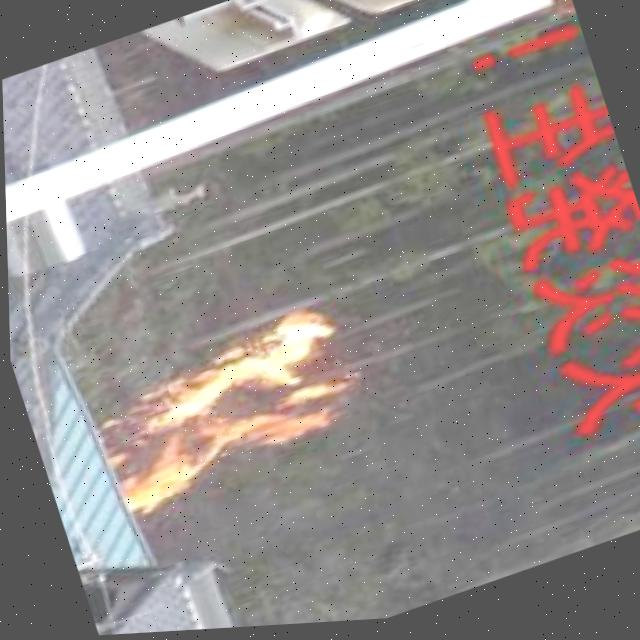Fire: (71, 286, 366, 522)
